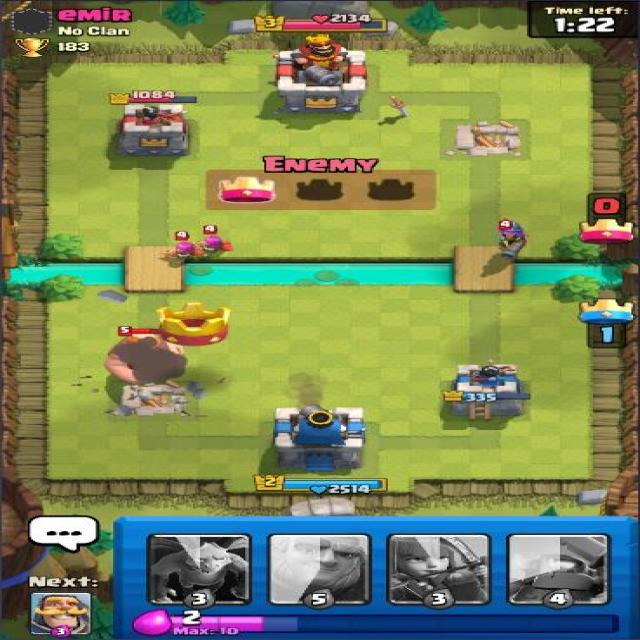Enemy-Archer: (191, 224, 235, 259), (160, 230, 200, 262)
Enemy-Giant: (101, 323, 191, 391)
Enemy-Musketeer: (489, 216, 530, 261)
